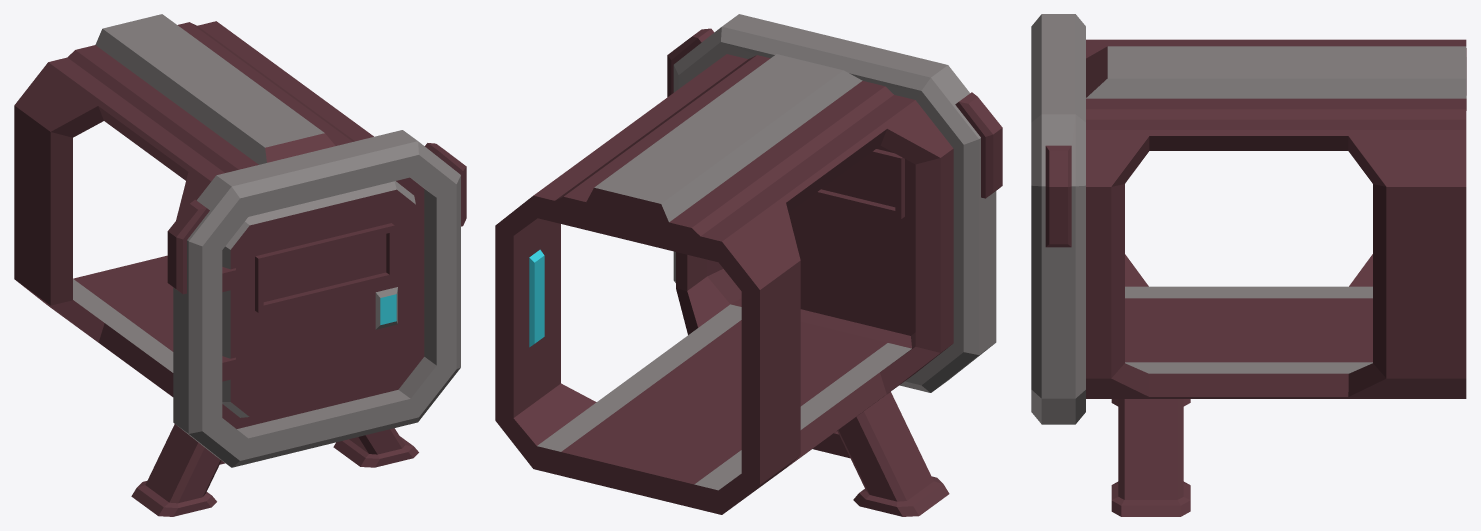
File: scifi-planet-base-hall-two-start.fbx
3 views of the same model, side by side, from view 1: azimuth 30°, elevation 25°; view 2: azimuth 150°, elevation 25°; view 3: azimuth 270°, elevation 25° (orthographic). The views are drawn at different scales.
Visible parts, largest first — view 1: scifi-planet-base-hall-two-start; view 2: scifi-planet-base-hall-two-start; view 3: scifi-planet-base-hall-two-start.
Boxes of the visible parts, <box> form: scifi-planet-base-hall-two-start: <box>14,14,466,516</box>; scifi-planet-base-hall-two-start: <box>495,14,1002,516</box>; scifi-planet-base-hall-two-start: <box>1031,14,1466,516</box>.
Size of the model in its own units: 3.4 by 3.9 by 4.
